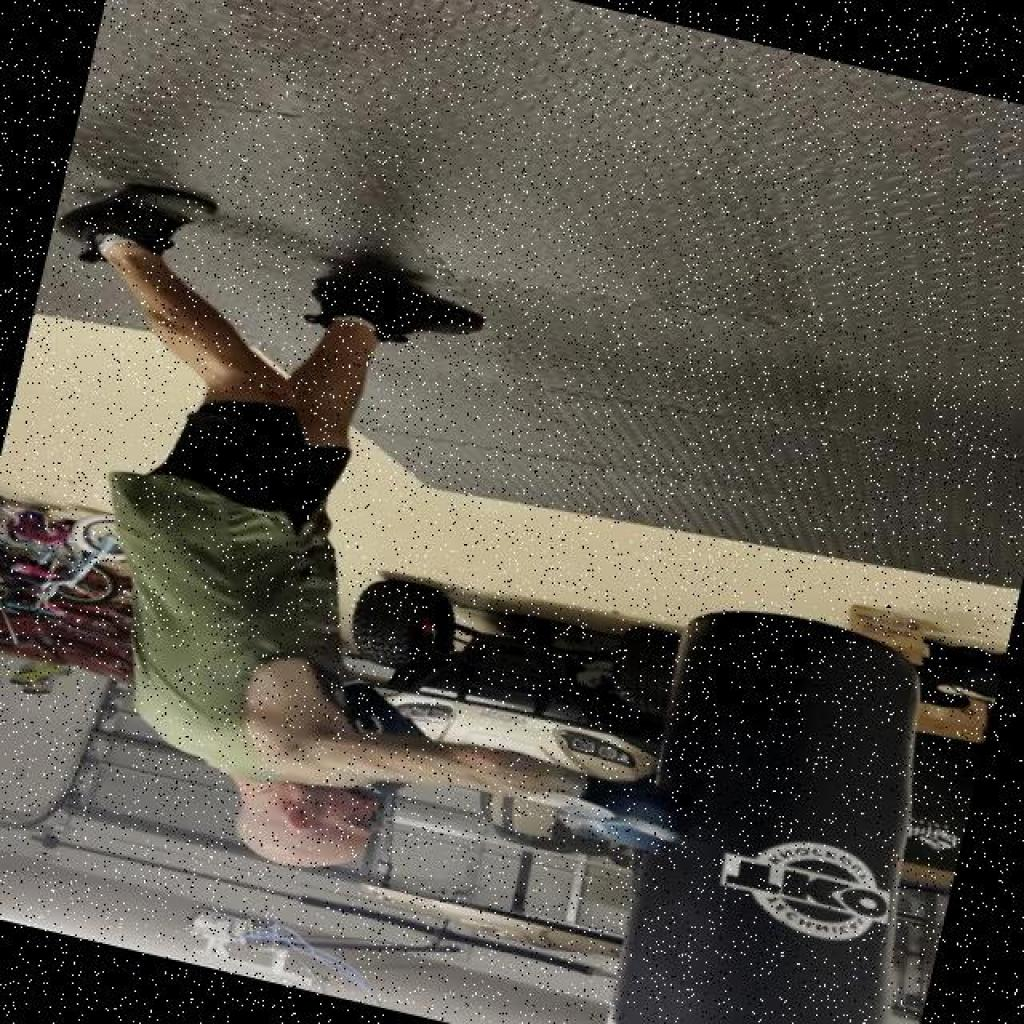bag: (581, 576, 950, 1024)
cross: (67, 604, 728, 986)
